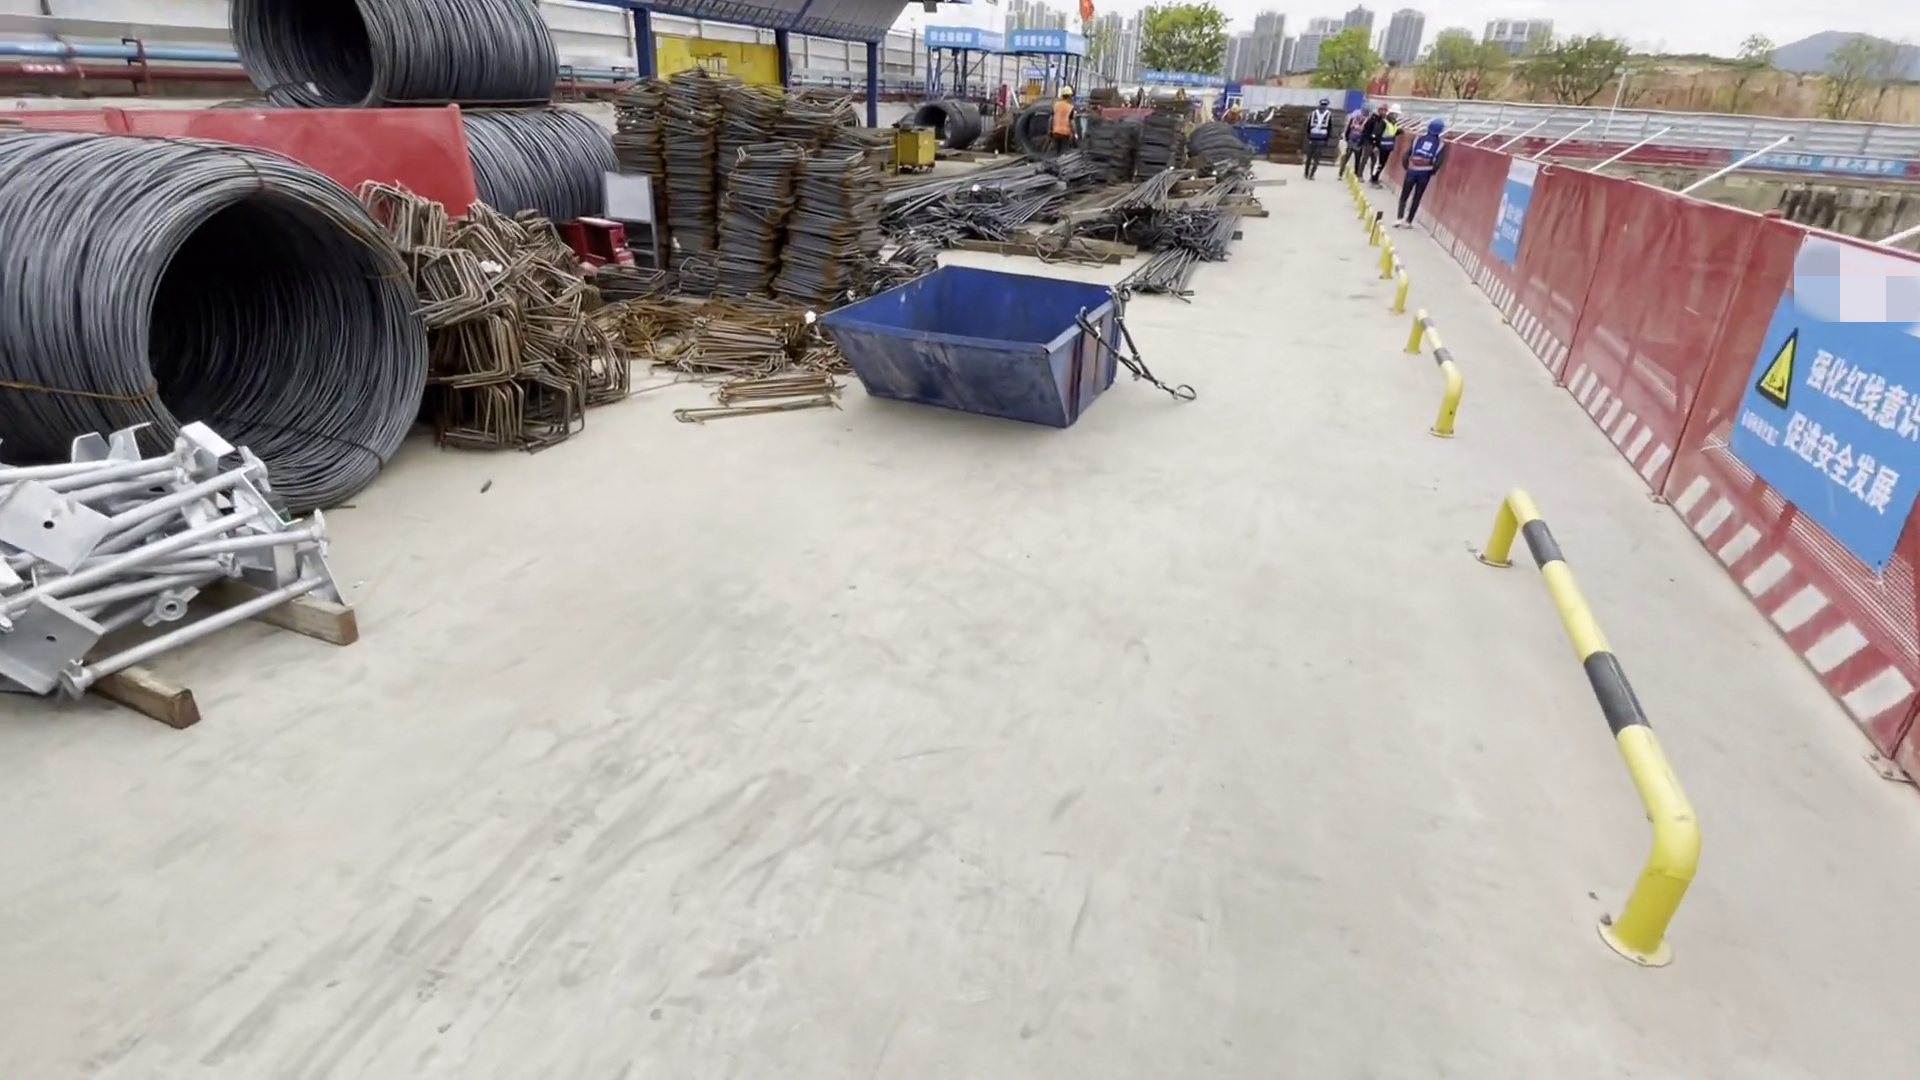fence: (1446, 141, 1920, 737), (16, 100, 468, 209)
helmet: (1425, 120, 1443, 133), (1058, 85, 1072, 95), (1387, 106, 1400, 116), (1318, 96, 1331, 107)
hopper: (830, 268, 1155, 433)
person: (1397, 121, 1441, 239), (1302, 94, 1331, 182), (1377, 105, 1400, 195), (1046, 87, 1078, 153), (1341, 99, 1365, 181), (1362, 99, 1378, 189)
rebar: (1074, 154, 1260, 297), (872, 152, 1067, 260)
slogan: (1720, 233, 1920, 533), (1488, 156, 1554, 269)
vest: (1405, 134, 1439, 174), (1048, 98, 1075, 136), (1311, 110, 1330, 140), (1378, 119, 1397, 148)
